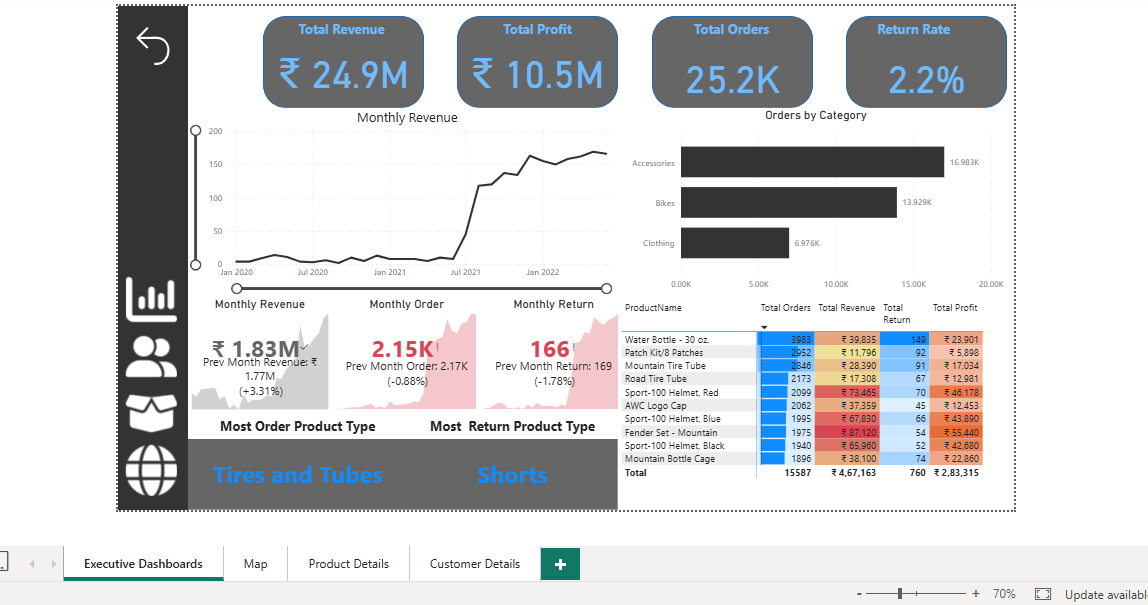

This screenshot's page, from the dashboard's own definition file:
{"tool":"powerbi","page":{"name":"Executive Dashboards","canvas":[1280,720],"ordinal":0},"visuals":[{"type":"shape","title":"Left Nav","box":[0,0,100,720],"z":0},{"type":"shape","title":"KPI Backgroud","box":[207.1,14.3,230,131.4],"z":0,"group":"g2"},{"type":"textbox","title":"Total Profit","box":[502.8,14.3,192.9,37.1],"z":0,"group":"g3"},{"type":"card","title":"Total Revenue Card","fields":{"Values":["Measure.Total Revenue"]},"box":[207.1,44.3,230,94.3],"z":0,"group":"g4"},{"type":"group","id":"g1","title":"KPIs","box":[207.1,14.3,1062.9,131.4],"z":1000},{"type":"group","id":"g2","title":"KPI Background","box":[207.1,14.3,1062.9,131.4],"z":1000,"group":"g1"},{"type":"shape","title":"KPI Backgroud","box":[484.7,14.3,230,131.4],"z":1000,"group":"g2"},{"type":"textbox","title":"Total Orders","box":[779.9,14.3,192.9,37.1],"z":1000,"group":"g3"},{"type":"card","title":"Total Profit Card","fields":{"Values":["Measure.Total Profit"]},"box":[484.2,44.3,230,94.3],"z":1000,"group":"g4"},{"type":"group","id":"g3","title":"KPI Text Box","box":[222.8,14.3,1010,37.1],"z":2000,"group":"g1"},{"type":"textbox","title":"Total Revenue","box":[222.8,14.3,192.9,37.1],"z":2000,"group":"g3"},{"type":"shape","title":"KPI Backgroud","box":[1040,14.3,230,131.4],"z":2000,"group":"g2"},{"type":"card","title":"Total Orders Card","fields":{"Values":["Measure.Total Orders"]},"box":[762.8,51.4,230,94.3],"z":2000,"group":"g4"},{"type":"lineChart","title":"Monthly Revenue","fields":{"Y":["Measure.Total Return"],"Category":["Calendar_Lookup_CSV.Date Hierarchy.Start of Month"]},"box":[99.5,146.3,626.3,269.3],"z":2000},{"type":"shape","title":"KPI Backgroud","box":[762.3,14.3,230,131.4],"z":3000,"group":"g2"},{"type":"textbox","title":"Return Rate","box":[1039.9,14.3,192.9,37.1],"z":3000,"group":"g3"},{"type":"group","id":"g4","title":"KPI Card","box":[207.1,44.3,1062.9,101.4],"z":3000,"group":"g1"},{"type":"card","title":"Return Rate Card","fields":{"Values":["Measure.Return Rate"]},"box":[1040,51.4,230,94.3],"z":3000,"group":"g4"},{"type":"kpi","title":"Monthly Revenue","fields":{"Goal":["Measure.Previous Month Revenue"],"TrendLine":["Calendar_Lookup_CSV.Date Hierarchy.Start of Month"],"Indicator":["Measure.Total Revenue"]},"box":[100,415.7,205.7,165.7],"z":3000},{"type":"kpi","title":"Monthly Order","fields":{"TrendLine":["Calendar_Lookup_CSV.Date Hierarchy.Start of Month"],"Indicator":["Measure.Total Orders"],"Goal":["Measure.Previous Month Order"]},"box":[308,415.6,207.8,165.4],"z":4000},{"type":"kpi","title":"Monthly Return","fields":{"TrendLine":["Calendar_Lookup_CSV.Date Hierarchy.Start of Month"],"Indicator":["Measure.Total Return"],"Goal":["Measure.Previous Month return"]},"box":[518,415.6,207.8,165.4],"z":5000},{"type":"barChart","title":"Orders by Category","fields":{"Category":["Product_Categories_CSV.CategoryName"],"Y":["Measure.Total Orders"]},"box":[724.4,146.3,545.9,269.3],"z":6000},{"type":"pivotTable","fields":{"Values":["Measure.Total Orders","Measure.Total Revenue","Measure.Total Return","Measure.Total Profit"],"Rows":["product_VW.ProductName"]},"box":[714.1,415.6,556.1,279.5],"z":7000},{"type":"card","fields":{"Values":["Min(subcategory_VW.SubcategoryName)"]},"box":[99.5,619,313.2,101],"z":8000},{"type":"textbox","box":[99.5,581,313.2,38],"z":9000},{"type":"textbox","box":[412.7,581,301.5,38],"z":10000},{"type":"card","fields":{"Values":["Min(subcategory_VW.SubcategoryName)"]},"box":[412.7,619,301.5,101],"z":11000},{"type":"actionButton","box":[15.7,22.9,68.6,68.6],"z":11001},{"type":"actionButton","box":[7.1,460,85.7,81.4],"z":11002},{"type":"actionButton","box":[7.1,378.6,85.7,81.4],"z":11003},{"type":"actionButton","box":[7.1,541.4,85.7,81.4],"z":11004},{"type":"actionButton","box":[7.1,622.9,85.7,81.4],"z":11005}]}

Visuals, with their boxes on the page's 1280x720 design canvas (x1, y1, x2, y2). These are canvas units, not pixel positions in the 1148x605 screenshot, which may show the page scaled, cropped or inside an application window:
"Left Nav" shape: Rect(0, 0, 100, 720)
"KPI Backgroud" shape: Rect(207, 14, 437, 146)
"Total Profit" textbox: Rect(503, 14, 696, 51)
"Total Revenue Card" card: Rect(207, 44, 437, 139)
"KPIs" group: Rect(207, 14, 1270, 146)
"KPI Background" group: Rect(207, 14, 1270, 146)
"KPI Backgroud" shape: Rect(485, 14, 715, 146)
"Total Orders" textbox: Rect(780, 14, 973, 51)
"Total Profit Card" card: Rect(484, 44, 714, 139)
"KPI Text Box" group: Rect(223, 14, 1233, 51)
"Total Revenue" textbox: Rect(223, 14, 416, 51)
"KPI Backgroud" shape: Rect(1040, 14, 1270, 146)
"Total Orders Card" card: Rect(763, 51, 993, 146)
"Monthly Revenue" lineChart: Rect(100, 146, 726, 416)
"KPI Backgroud" shape: Rect(762, 14, 992, 146)
"Return Rate" textbox: Rect(1040, 14, 1233, 51)
"KPI Card" group: Rect(207, 44, 1270, 146)
"Return Rate Card" card: Rect(1040, 51, 1270, 146)
"Monthly Revenue" kpi: Rect(100, 416, 306, 581)
"Monthly Order" kpi: Rect(308, 416, 516, 581)
"Monthly Return" kpi: Rect(518, 416, 726, 581)
"Orders by Category" barChart: Rect(724, 146, 1270, 416)
pivotTable - Measure.Total Orders x Measure.Total Revenue: Rect(714, 416, 1270, 695)
card - Min(subcategory_VW.SubcategoryName): Rect(100, 619, 413, 720)
textbox: Rect(100, 581, 413, 619)
textbox: Rect(413, 581, 714, 619)
card - Min(subcategory_VW.SubcategoryName): Rect(413, 619, 714, 720)
actionButton: Rect(16, 23, 84, 92)
actionButton: Rect(7, 460, 93, 541)
actionButton: Rect(7, 379, 93, 460)
actionButton: Rect(7, 541, 93, 623)
actionButton: Rect(7, 623, 93, 704)
